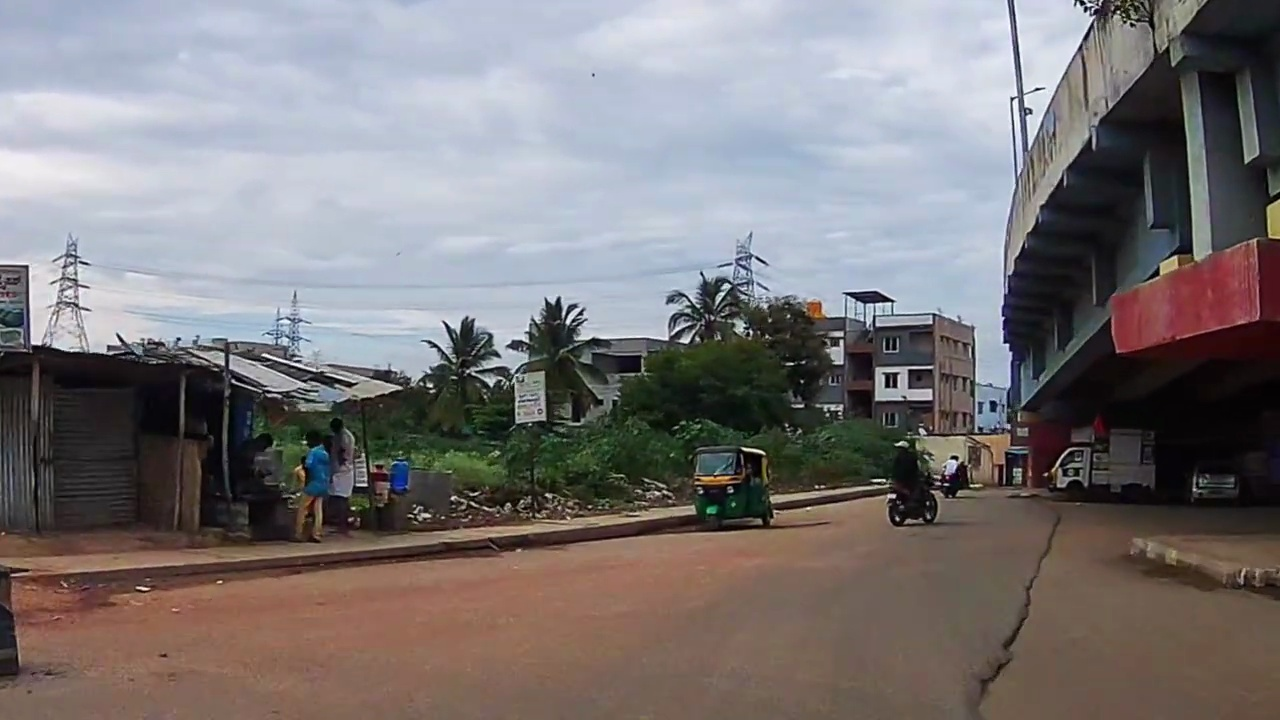garbage: (454, 498, 574, 517), (640, 477, 670, 502)
